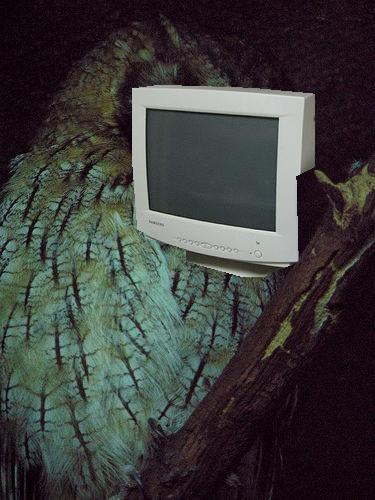tampered: (133, 86, 315, 277)
